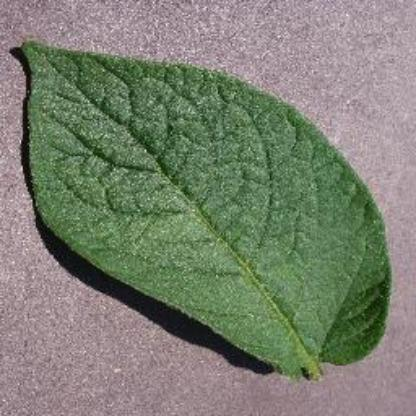Healthy-plant: (5, 29, 397, 384)
